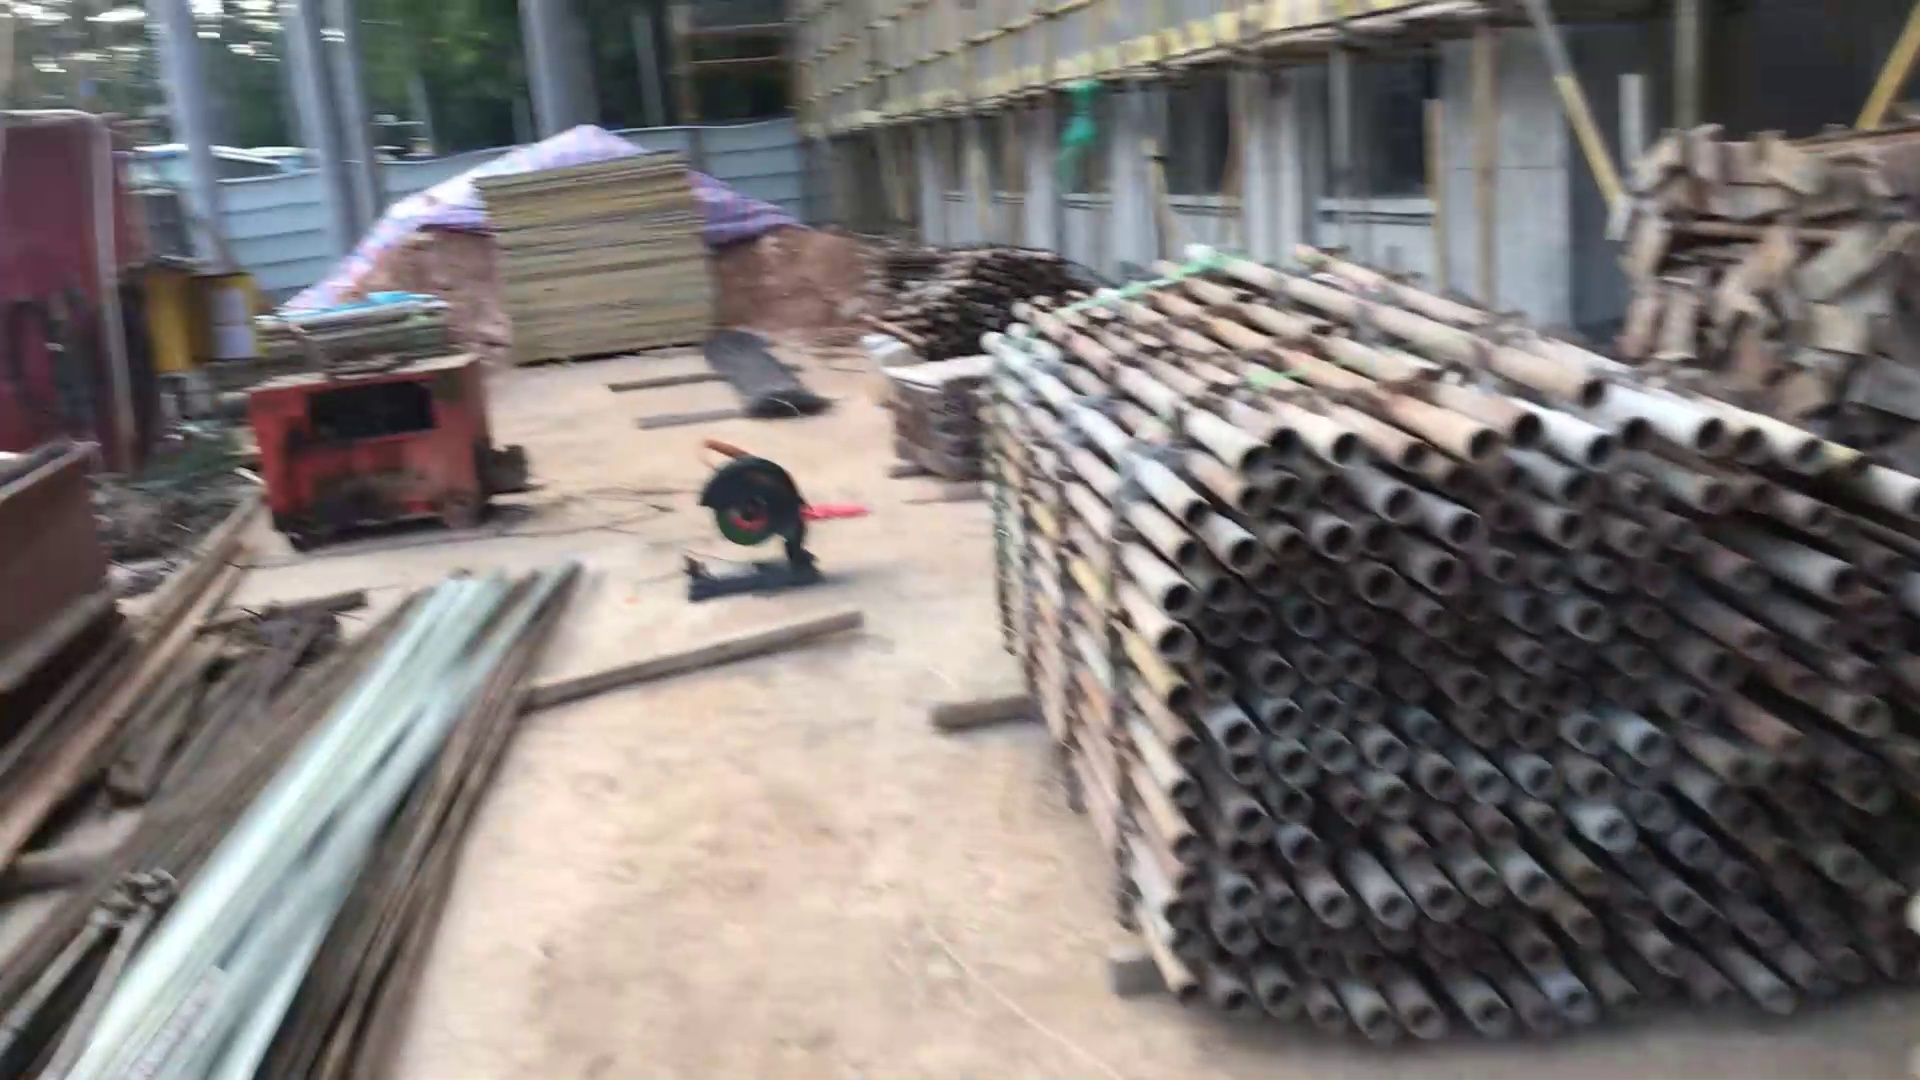board: (488, 133, 736, 375)
cutter: (673, 426, 836, 607)
ebox: (131, 251, 272, 476)
scaffold: (986, 228, 1920, 1062)
